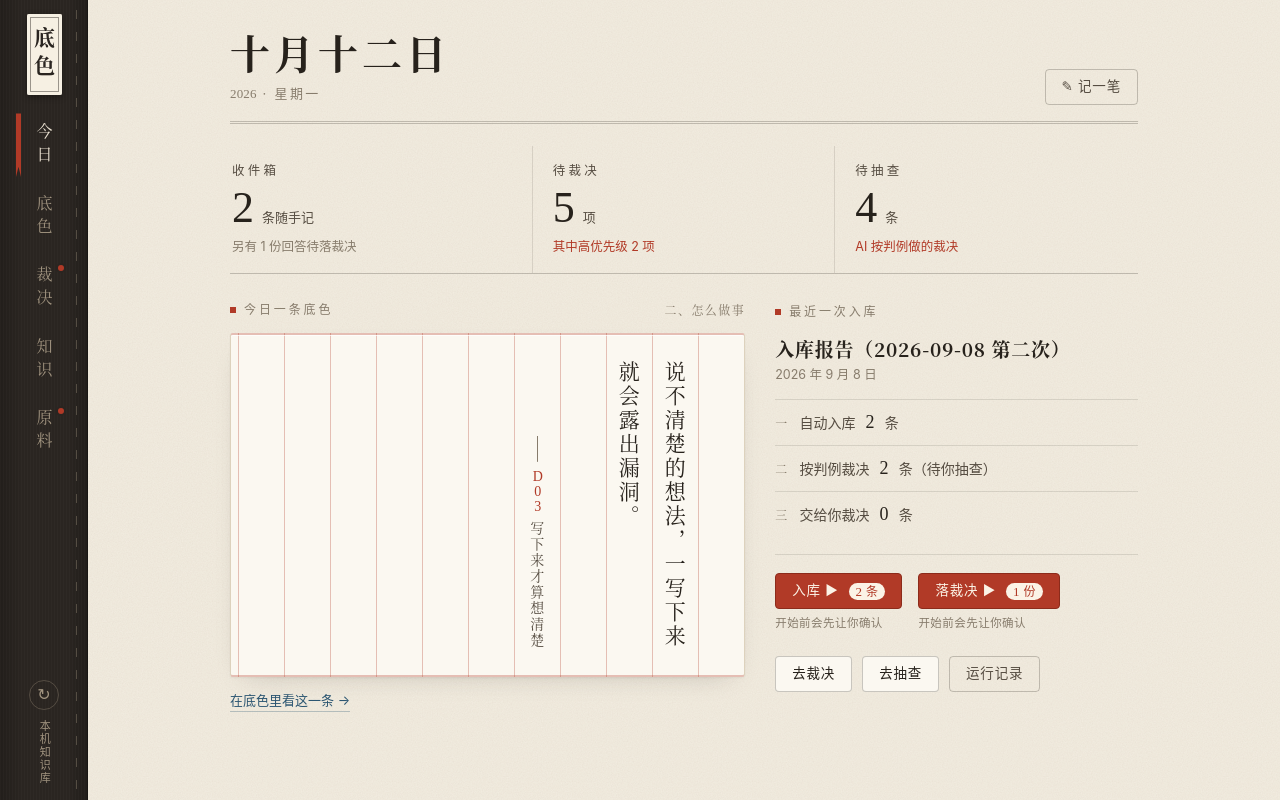
Test: the start sheet › says when the engine cannot be found and names a chosen model
Click the button "入库 ▶ 2 条" at (839, 591), box left=775, top=573, right=902, bottom=609
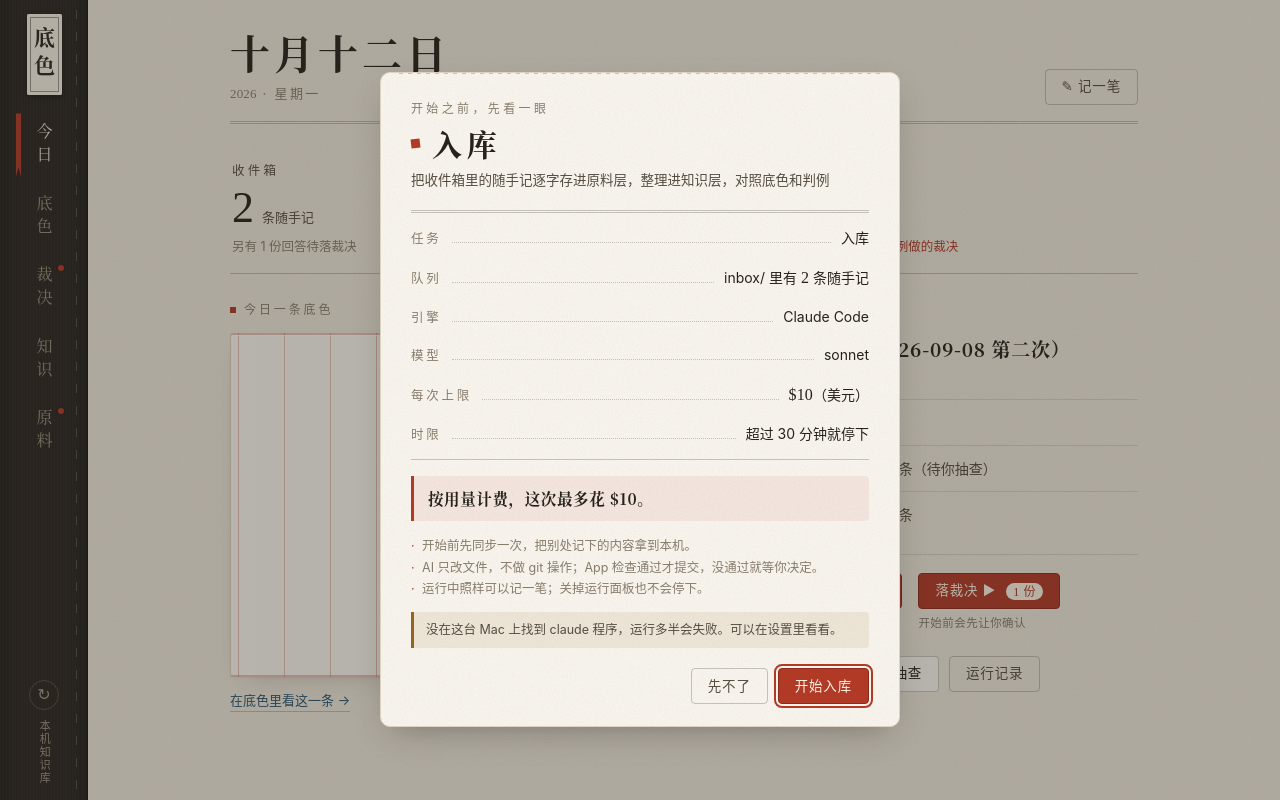
Expected: the dialog named "开始入库" shows "sonnet", left=824, top=346, right=869, bottom=363
Expected: the dialog named "开始入库" shows "没在这台 Mac 上找到 claude 程序", left=380, top=72, right=900, bottom=727
